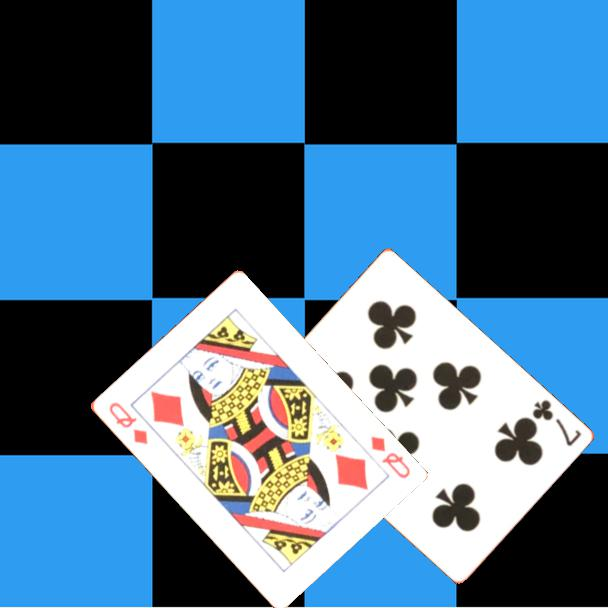c07: (528, 396, 584, 449)
d12: (366, 432, 413, 481), (105, 398, 150, 448)
